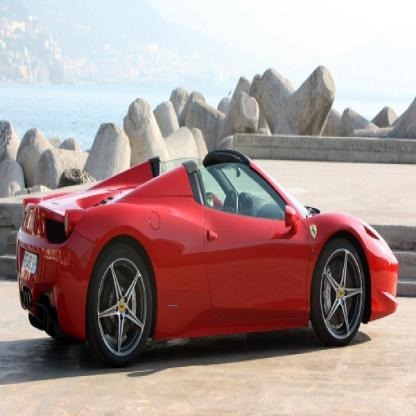Vehicle: (16, 148, 404, 378)
